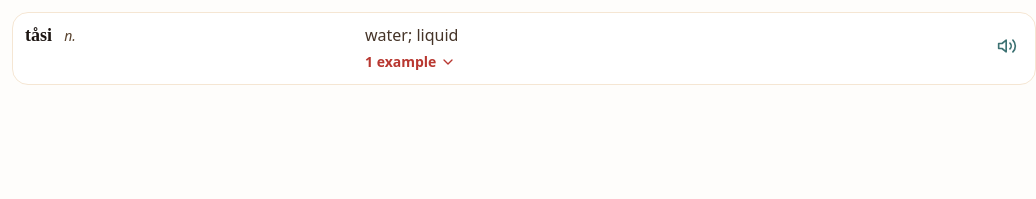
it: dictionary entry rows › shows examples in one disclosure only when there is no entry page to open
Click the button "tåsi n. water; liquid 1 example".
click(412, 35)  # box [13,13,985,84]
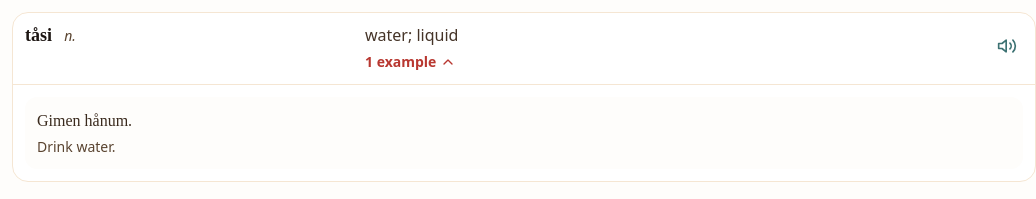
Expected: the button "tåsi n. water; liquid 1 example" is expanded
Expected: the text "Gimen hånum." is shown, [37,112,132,129]
Click the button "tåsi n. water; liquid 1 example".
click(412, 35)  # box [13,13,985,84]
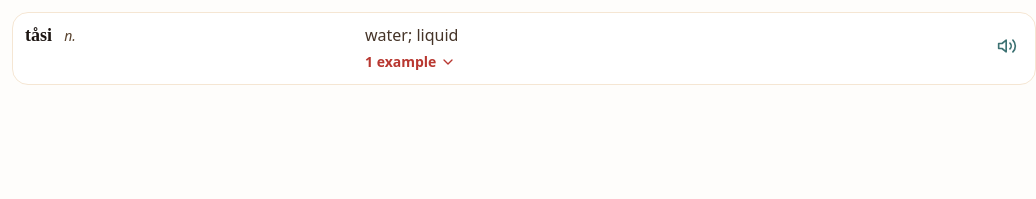
Expected: the text "Gimen hånum." is gone
